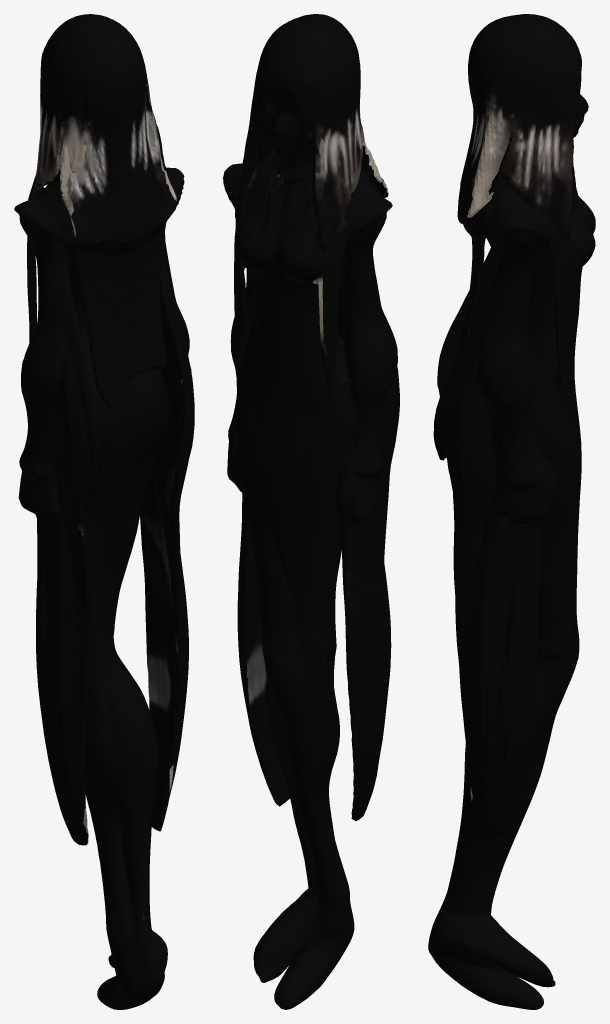
Rendered from garak_doll7.glb.
3 renders of one model, left to right at view 1: azimuth 30°, elevation 25°; view 2: azimuth 150°, elevation 25°; view 3: azimuth 270°, elevation 25°, orthographic.
Visible parts, largest first — view 1: doll7.obj; view 2: doll7.obj; view 3: doll7.obj.
Part boxes in pixels (x1,y1,x2,y2): doll7.obj: (14, 14, 194, 1009); doll7.obj: (223, 14, 399, 1009); doll7.obj: (428, 14, 595, 1009).
Size of the model in its own units: 0.3387 by 1.97 by 0.3044.
1 material, 1 textured.
